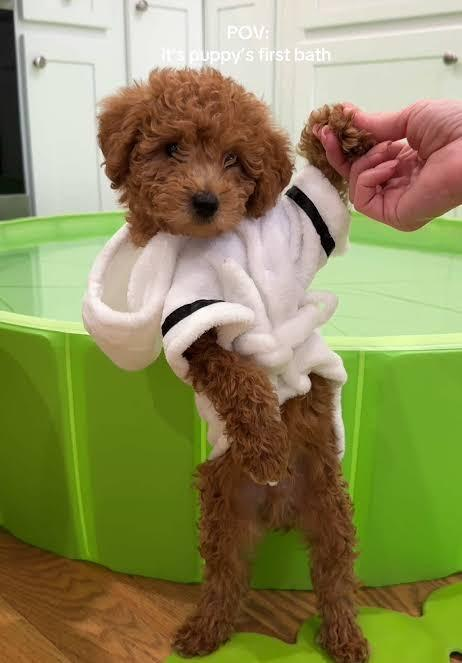puppy-dog: (81, 61, 375, 663)
